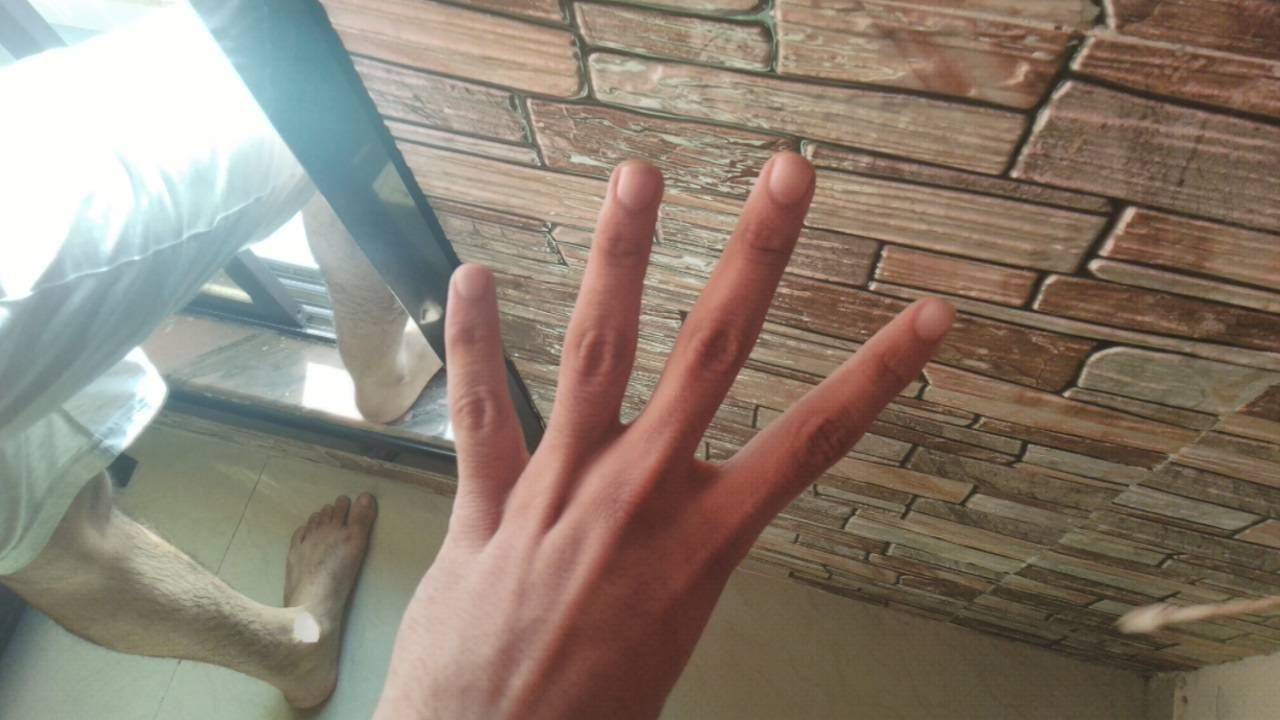fingertip: (754, 142, 824, 210), (598, 152, 664, 220), (900, 288, 966, 348), (444, 260, 498, 318)
